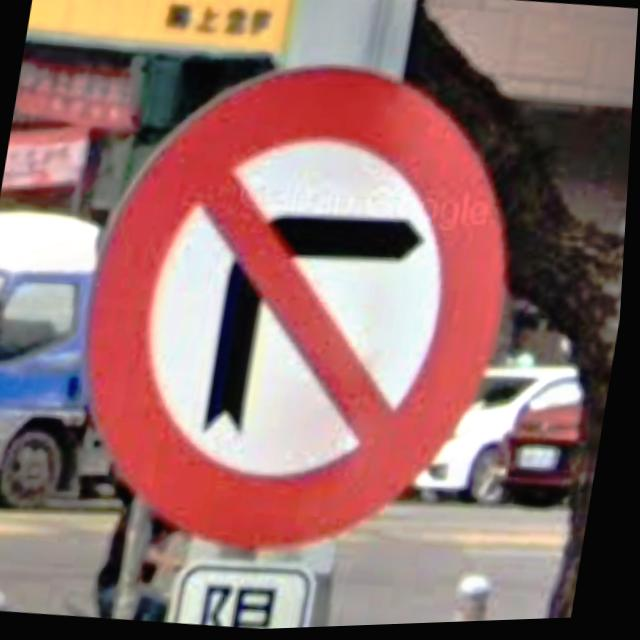noturnright: (87, 67, 513, 556)
